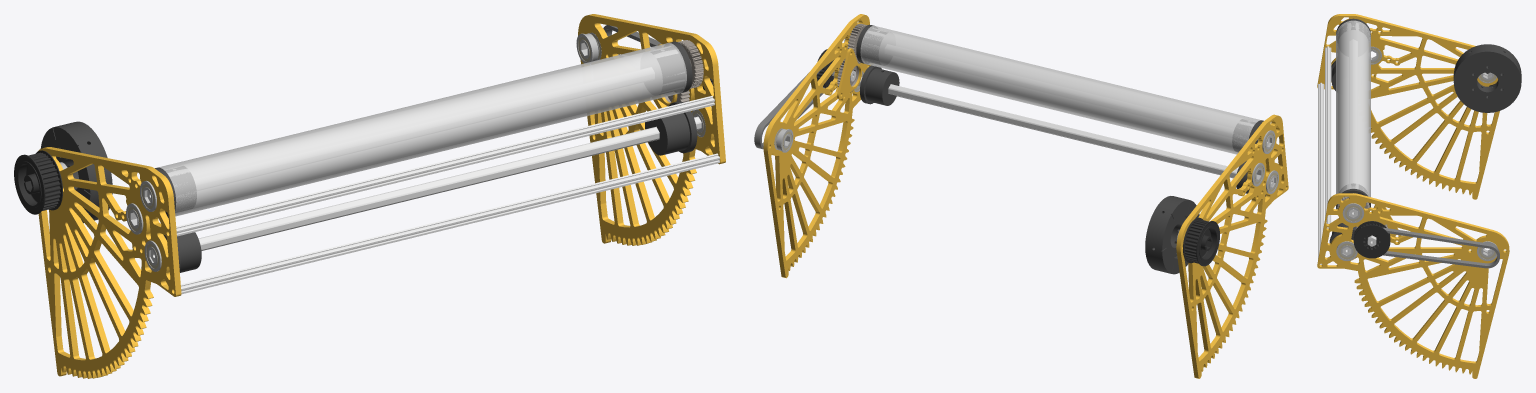
3 renders of one model, left to right at view 1: azimuth 30°, elevation 25°; view 2: azimuth 150°, elevation 25°; view 3: azimuth 270°, elevation 25°, orthographic. The views are drawn at different scales.
Parts seen in each view (by area): view 1: Hood (×2), Part 7, 3/8" Churro (24" L, 6061 Aluminum) (×2), Part 1 (×5), 1/2" Rounded Hex (24.5" L, 13.75mm OD, 6061), 36t Aluminum Pulley (HTD 5mm, 15mm Wide, 1/2" Hex Bore)-Mirr; view 2: Hood (×2), Part 7, Part 1 (×4), 1/2" Rounded Hex (24.5" L, 13.75mm OD, 6061), 36t Aluminum Pulley (HTD 5mm, 15mm Wide, 1/2" Hex Bore)-Mirr, Part 27, 90T HTD Belt; view 3: Hood (×2), Part 7, Part 1 (×3), 3/8" Churro (24" L, 6061 Aluminum) (×2), 90T HTD Belt, 31t Custom HTD 5mm Pulley (0.45" Wide, *0.5" Hex Bore), 1/2" Hex Bore Bearing (1.125" OD, 0.313" WD, Shielded, Flang (×3).
Part boxes in pixels (x1,y1,x2,y2): Hood (×2): (38, 14, 725, 378); Part 7: (158, 43, 686, 216); 3/8" Churro (24" L, 6061 Aluminum) (×2): (176, 95, 719, 294); Part 1 (×5): (40, 41, 697, 272); 1/2" Rounded Hex (24.5" L, 13.75mm OD, 6061): (150, 116, 701, 262); 36t Aluminum Pulley (HTD 5mm, 15mm Wide, 1/2" Hex Bore)-Mirr: (14, 150, 62, 214); Hood (×2): (763, 14, 1288, 378); Part 7: (860, 26, 1260, 154); Part 1 (×4): (856, 24, 1263, 274); 1/2" Rounded Hex (24.5" L, 13.75mm OD, 6061): (858, 77, 1274, 186); 36t Aluminum Pulley (HTD 5mm, 15mm Wide, 1/2" Hex Bore)-Mirr: (1183, 217, 1219, 266); Part 27: (837, 48, 862, 99); 90T HTD Belt: (754, 68, 824, 149); Hood (×2): (1317, 14, 1509, 378); Part 7: (1336, 20, 1370, 196); Part 1 (×3): (1336, 18, 1521, 211); 3/8" Churro (24" L, 6061 Aluminum) (×2): (1318, 46, 1331, 264); 90T HTD Belt: (1383, 227, 1499, 268); 31t Custom HTD 5mm Pulley (0.45" Wide, *0.5" Hex Bore): (1353, 221, 1390, 258); 1/2" Hex Bore Bearing (1.125" OD, 0.313" WD, Shielded, Flang (×3): (1336, 203, 1497, 261).
Size of the model in its own units: 0.6715 by 0.2944 by 0.2963.
